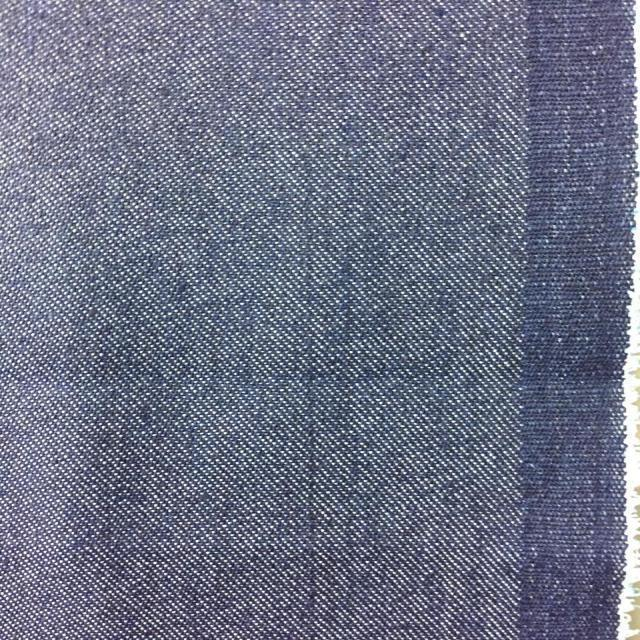Line: (298, 140, 323, 640), (339, 168, 358, 640)
